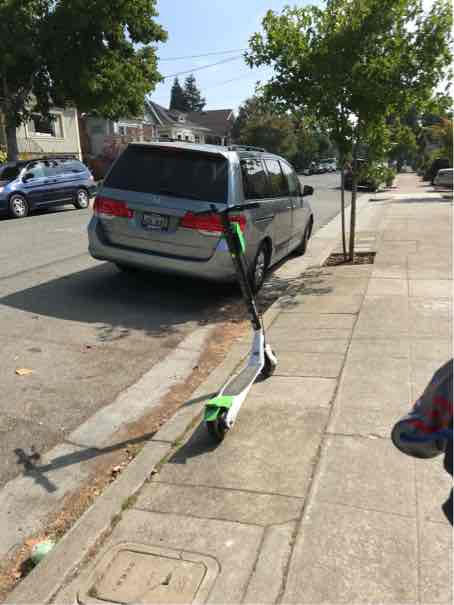scooter: (187, 198, 288, 446)
